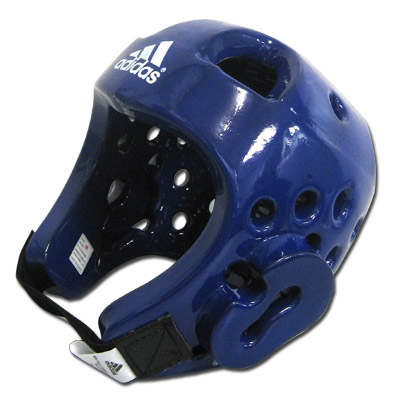helmet: (58, 20, 369, 341)
